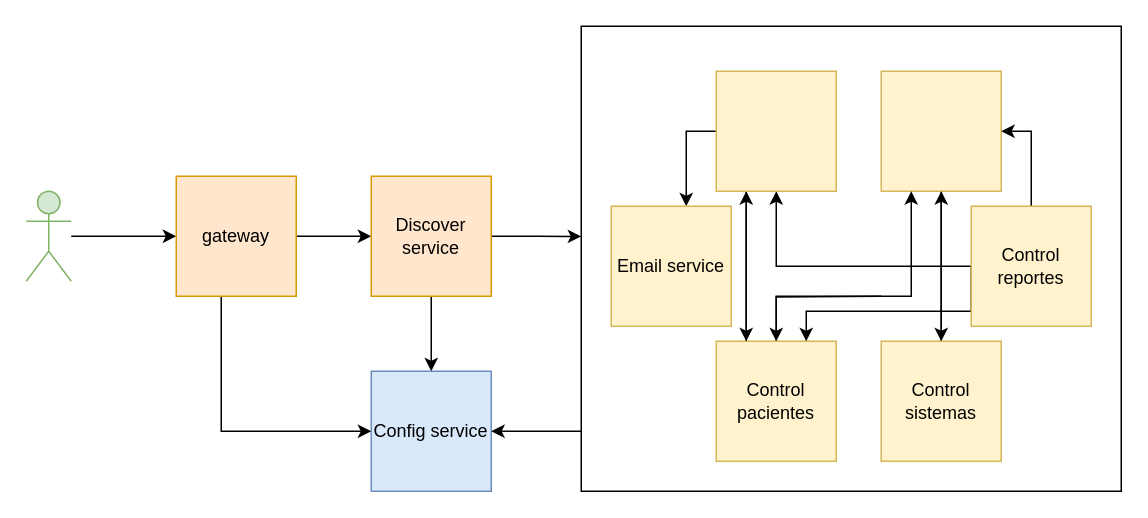
This 1148x518 diagram has some shape labels left out. Each missing label, with the centre of its shape:
"Control citas" belongs at (x=775, y=130).
"Control historial clínico" belongs at (x=940, y=130).
"User" belongs at (x=48, y=235).
